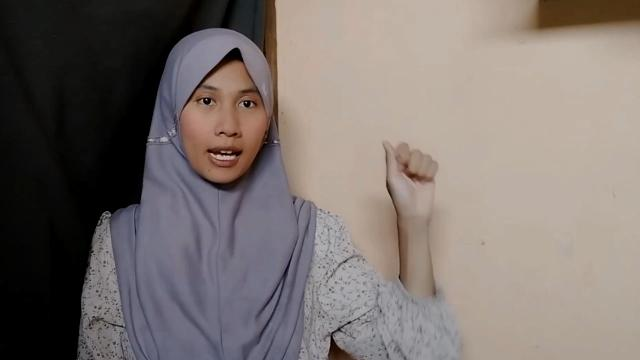A: (376, 135, 446, 235)
